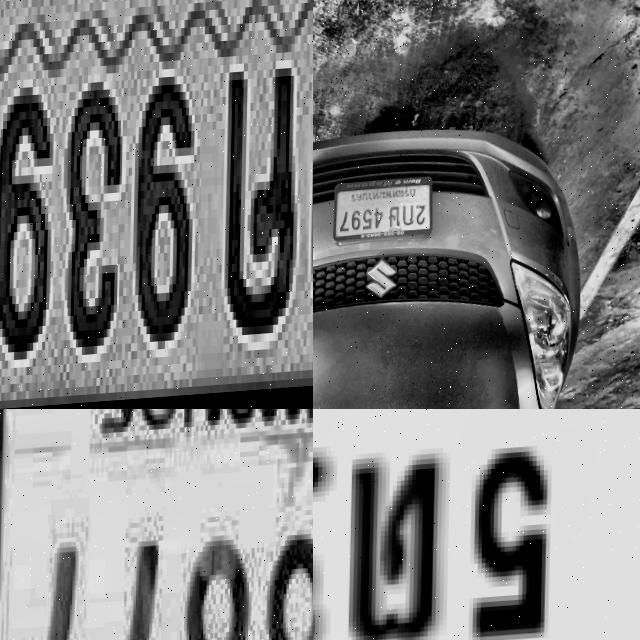license-plate: (0, 0, 313, 409), (313, 409, 640, 640), (0, 409, 313, 640), (334, 178, 435, 251)
